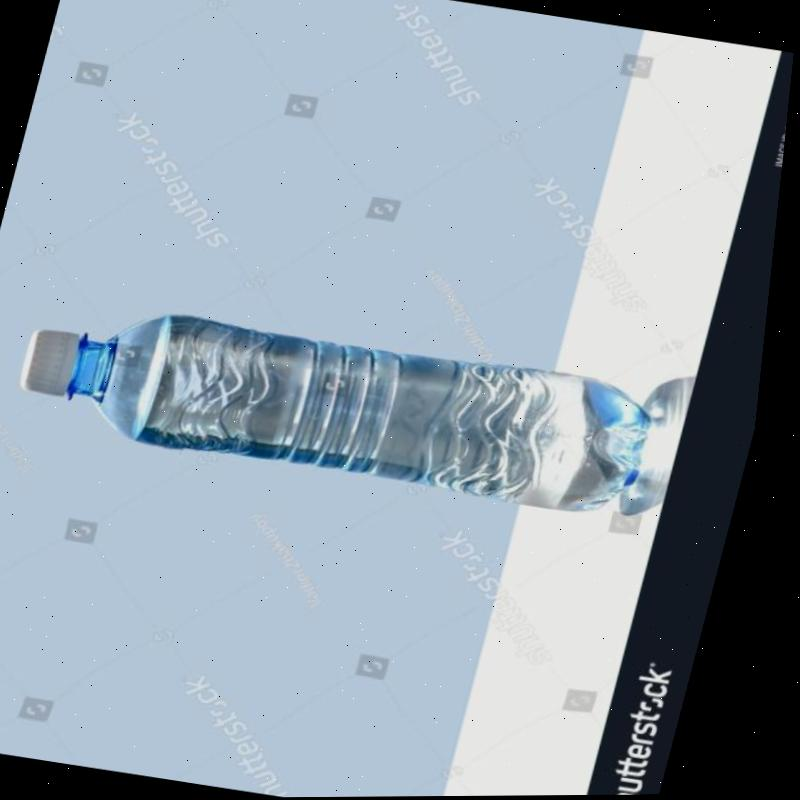botella: (8, 291, 676, 522)
